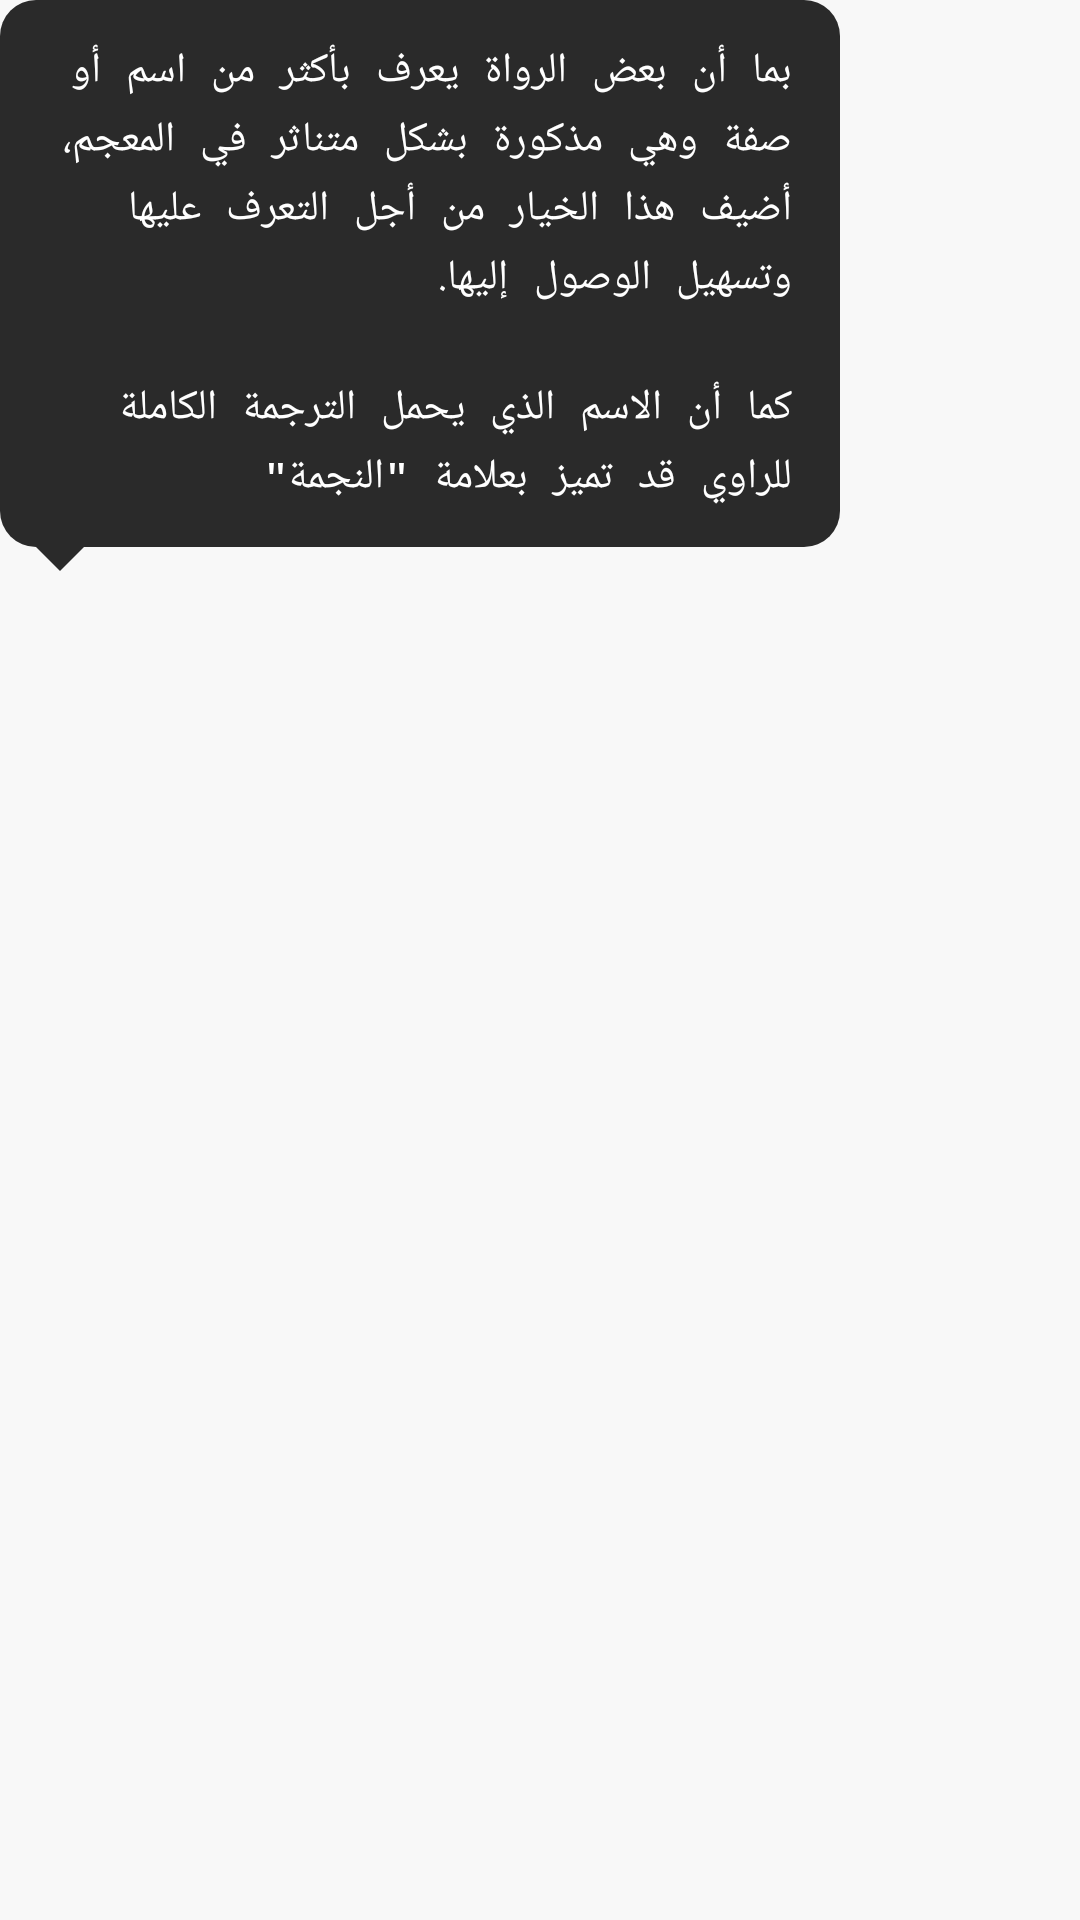

Locate icon controls on the screen. Image size 1080 × 1920, boxes as (x1, y1, x2, y2).
relation tooltip arrow: (36, 547, 84, 571)
